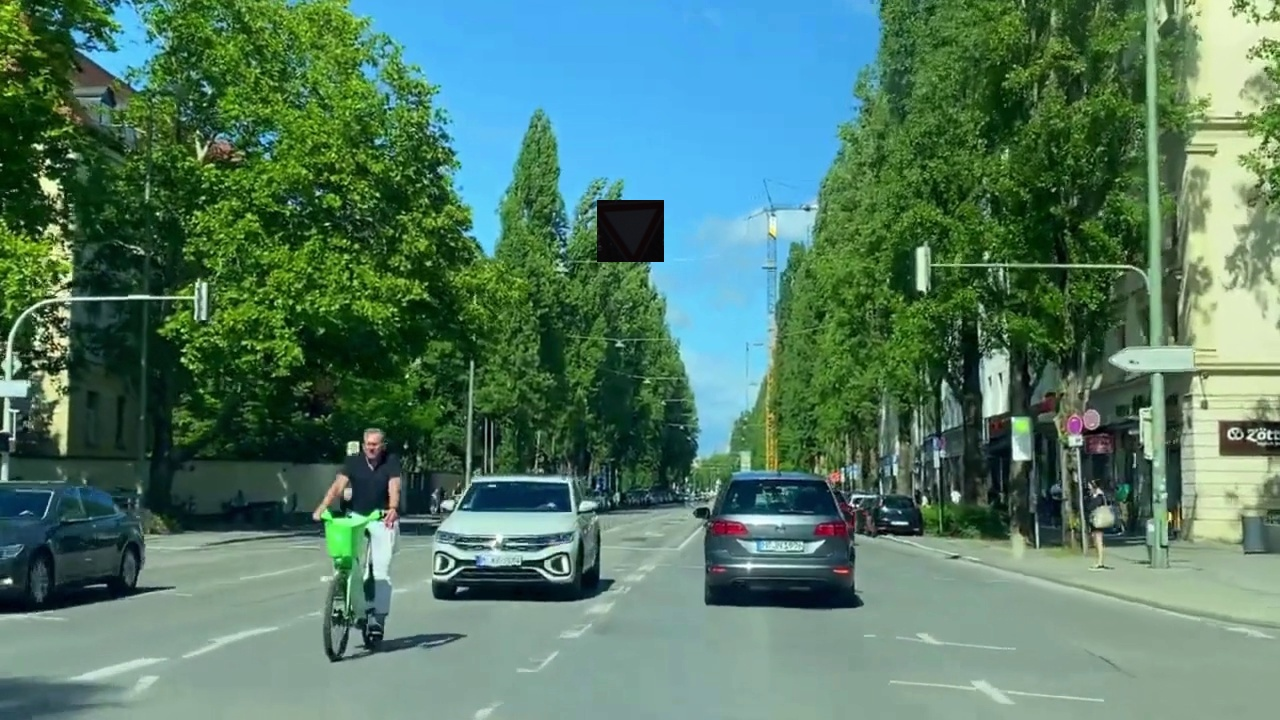Yield: (597, 200, 664, 262)
